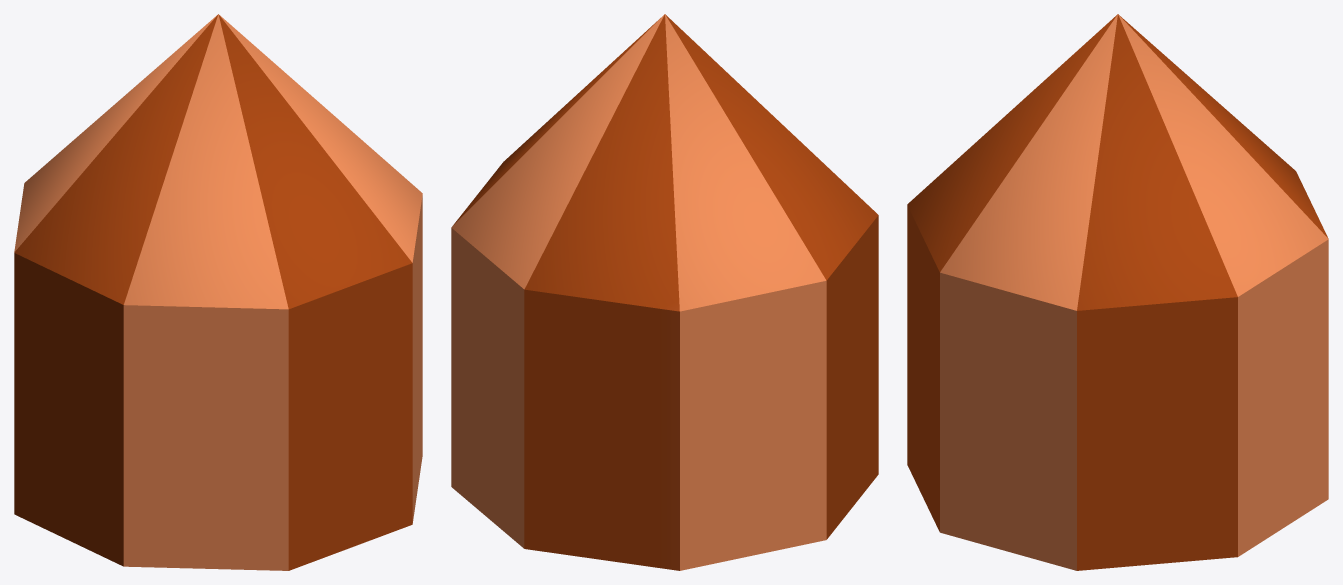
The model's file is FestivalTent3.fbx.
3 renders of one model, left to right at view 1: azimuth 30°, elevation 25°; view 2: azimuth 150°, elevation 25°; view 3: azimuth 270°, elevation 25°, orthographic.
Parts seen in each view (by area): view 1: polySurface1507; view 2: polySurface1507; view 3: polySurface1507.
Boxes of the visible parts, <box> form: polySurface1507: <box>14,14,422,570</box>; polySurface1507: <box>451,14,878,570</box>; polySurface1507: <box>907,14,1328,570</box>.
Size of the model in its own units: 42.82 by 52.44 by 42.82.
Materials: 1 (1 with a texture image).
